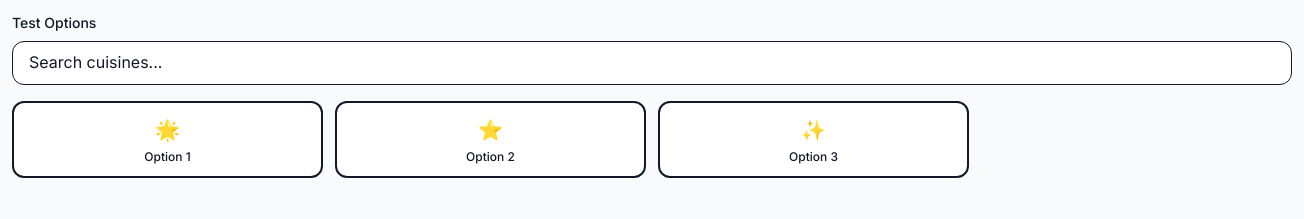
Test: MultiSelect › filters are case-insensitive
This screenshot has width=1304, height=219.
Step 1. Type "option 1" into the field with placeholder "Search cuisines..." → (652, 63), box [12, 41, 1292, 85]
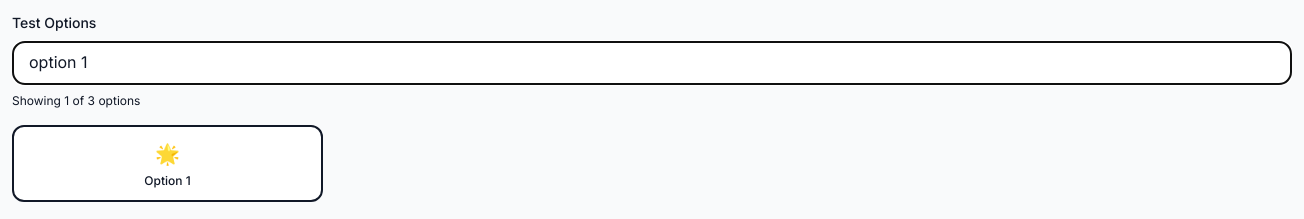
Expected: the text "Option 1" is shown, [144, 173, 191, 188]
Expected: the button "Option 2" is gone
